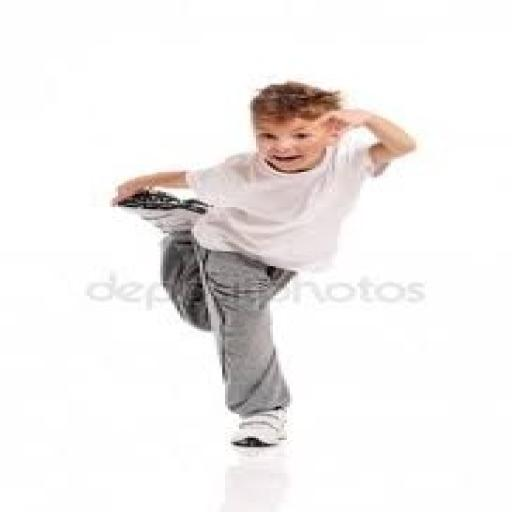dancing: (107, 78, 419, 451)
